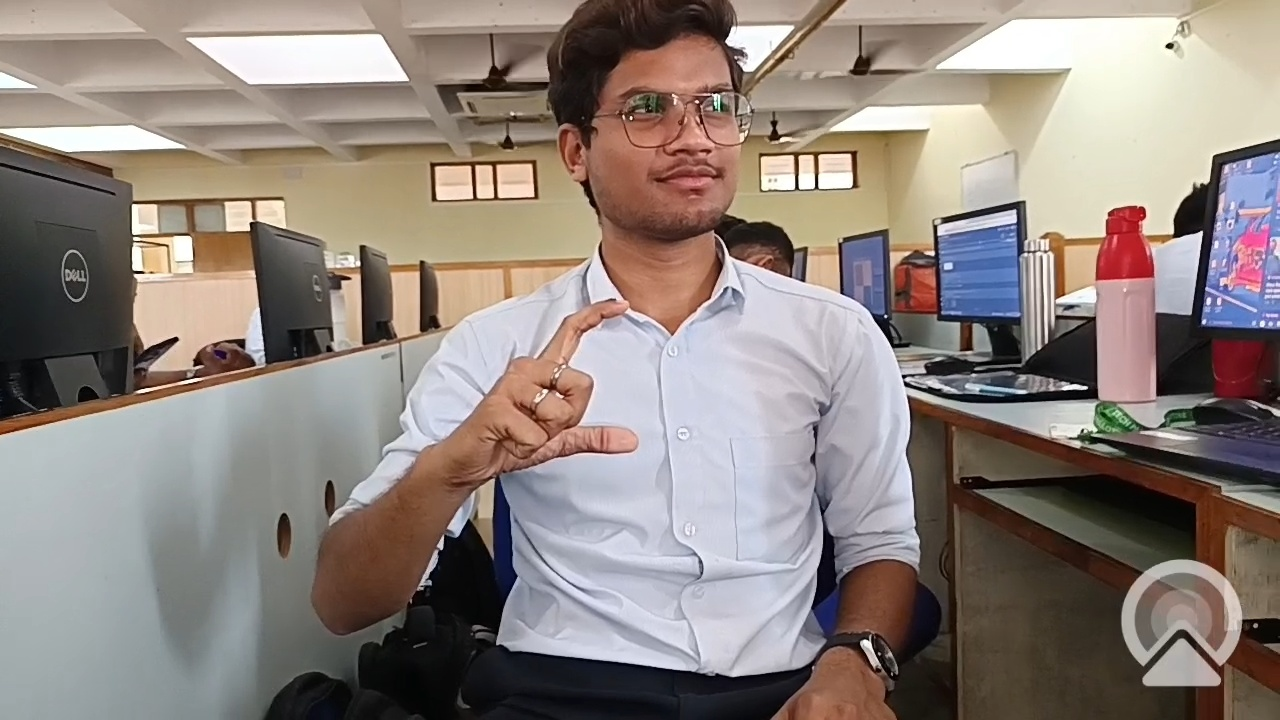C: (427, 286, 686, 492)
